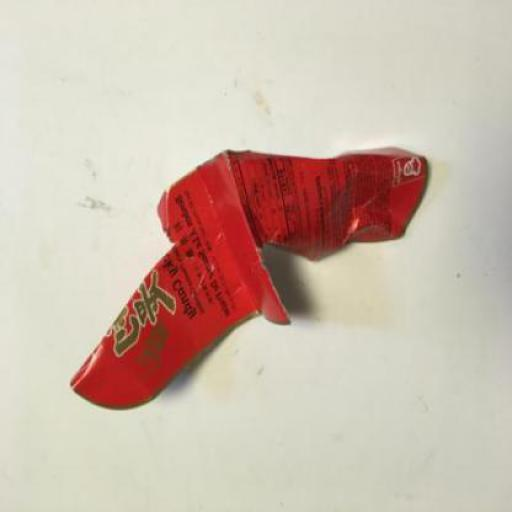paper: (70, 149, 426, 412)
